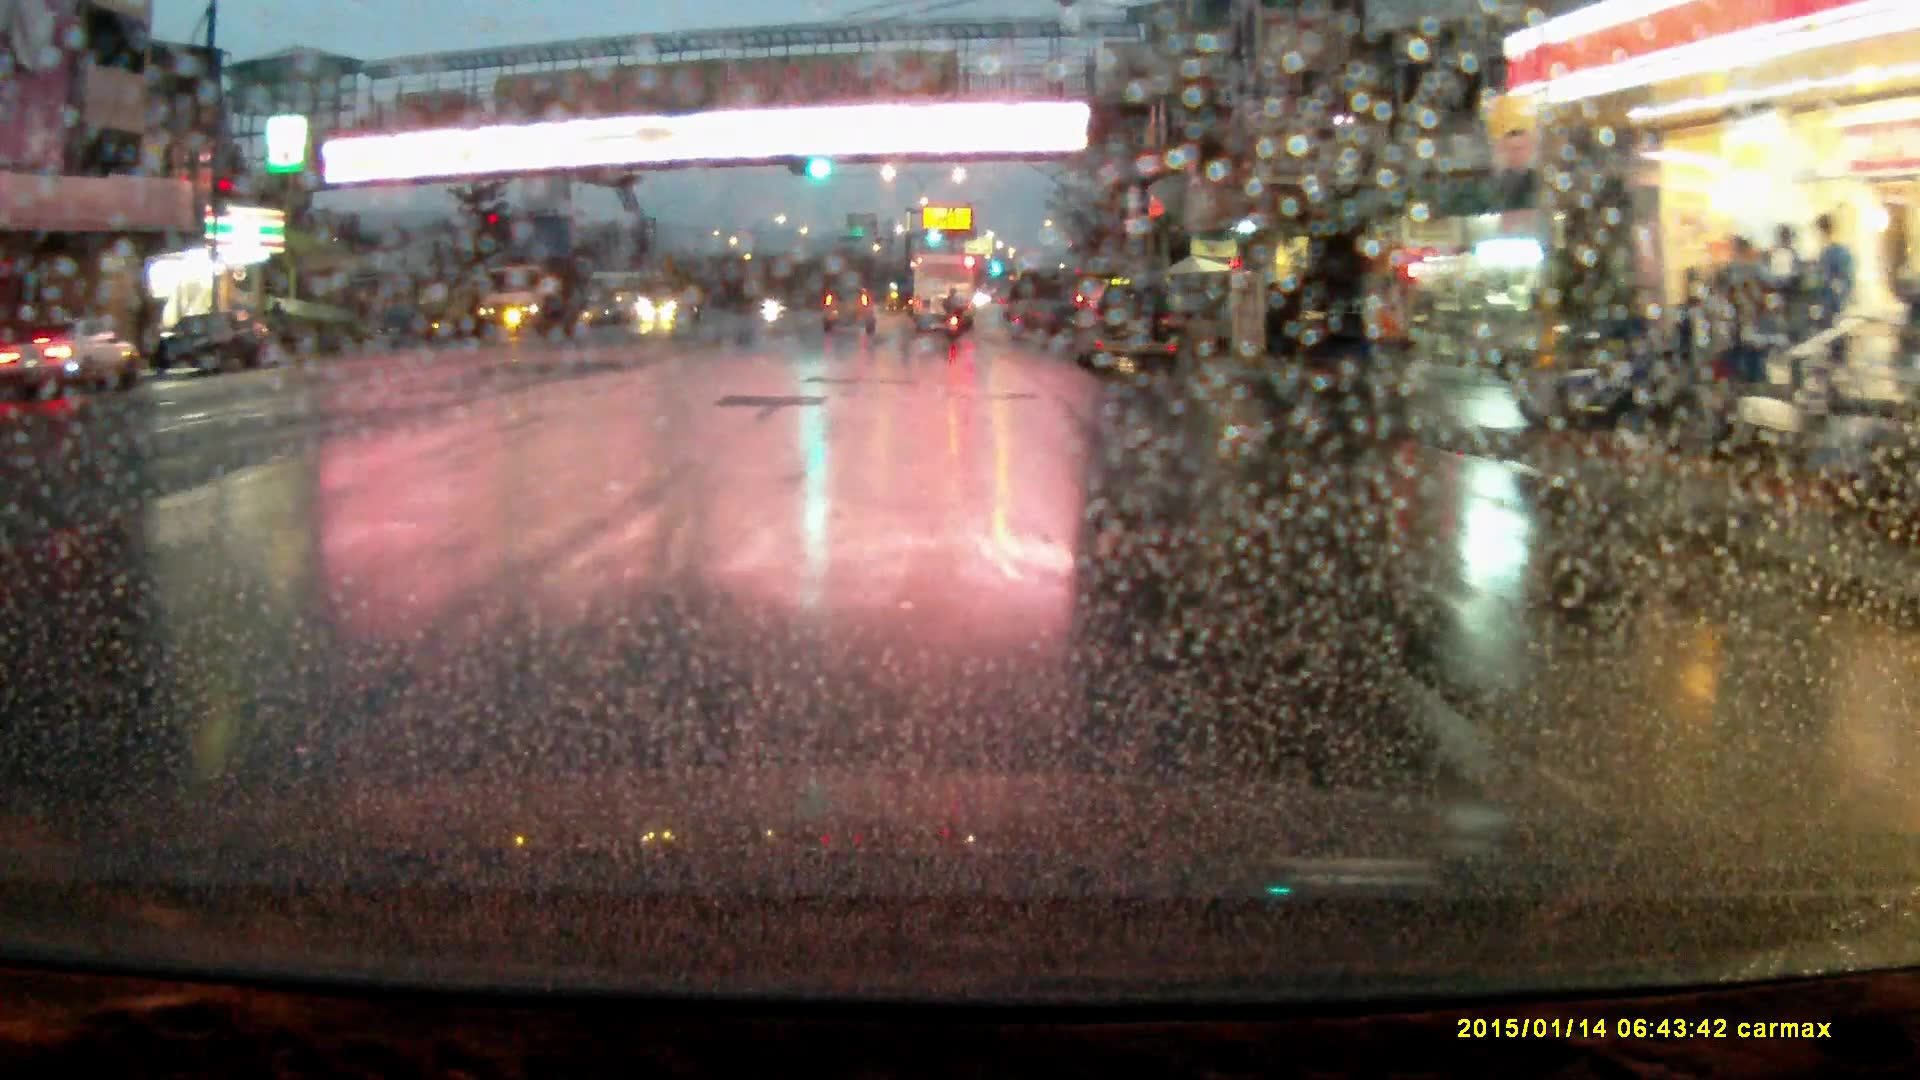rider: (942, 282, 965, 340)
vehicle: (1072, 285, 1177, 380), (141, 312, 279, 382), (9, 320, 131, 396), (474, 263, 583, 340), (1269, 282, 1361, 361), (913, 256, 977, 334), (637, 278, 705, 327), (822, 289, 877, 337)
